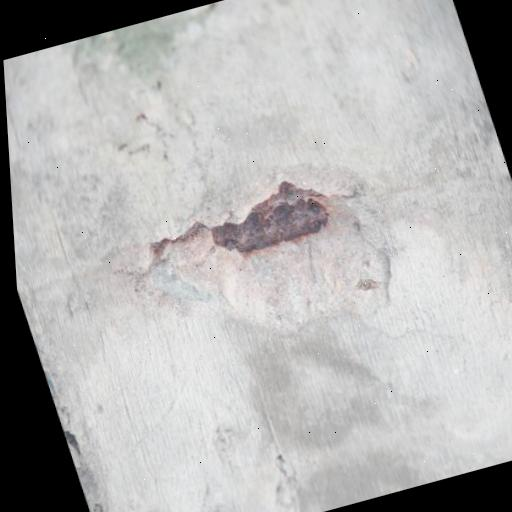exposed_rebar: (210, 181, 328, 253), (170, 220, 206, 243), (150, 239, 166, 255)
